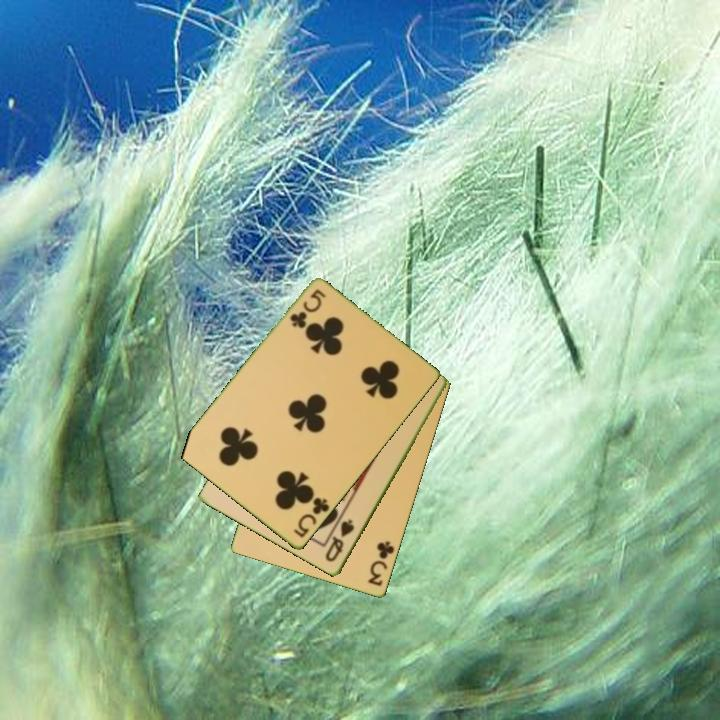3c: (365, 538, 398, 589)
5c: (290, 494, 333, 541), (286, 286, 329, 332)
Qs: (322, 516, 357, 565)
